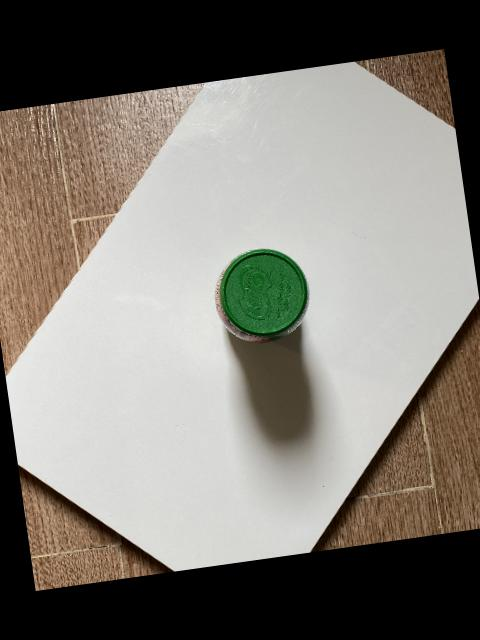milo: (214, 248, 309, 343)
